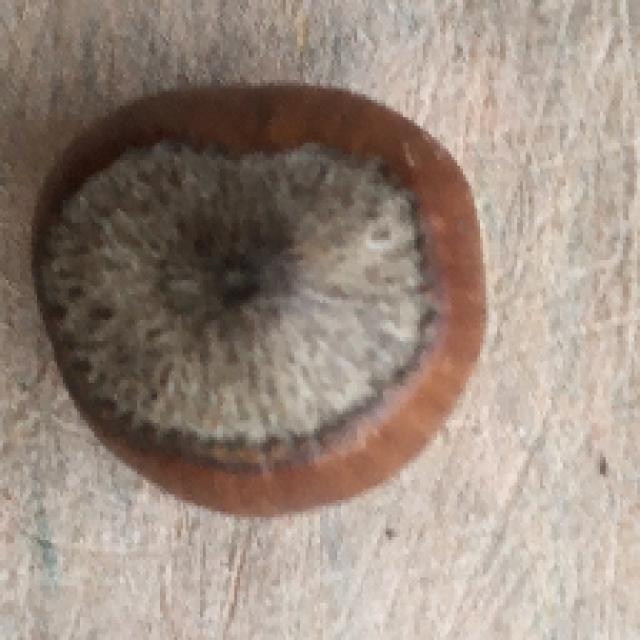damagedHazelnut: (32, 89, 484, 507)
